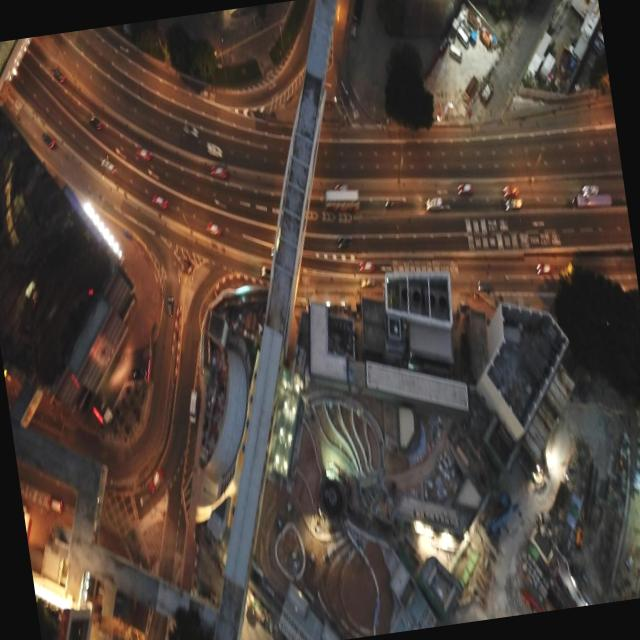bike: (333, 234, 353, 253), (382, 198, 394, 211)
bus: (323, 184, 362, 216), (571, 188, 614, 215)
car: (183, 390, 204, 426), (146, 469, 168, 494), (258, 263, 282, 283), (475, 275, 496, 297), (180, 117, 200, 140), (204, 218, 223, 242), (455, 24, 471, 51), (209, 162, 230, 182), (150, 192, 169, 214), (424, 194, 444, 213), (357, 256, 376, 276), (206, 140, 224, 160), (504, 196, 524, 214), (580, 178, 600, 196), (40, 131, 58, 151), (456, 181, 476, 198), (51, 64, 66, 86), (536, 258, 554, 276), (448, 42, 464, 62), (88, 114, 105, 132), (502, 182, 521, 198), (358, 274, 377, 290), (163, 294, 175, 318), (134, 145, 150, 162)
